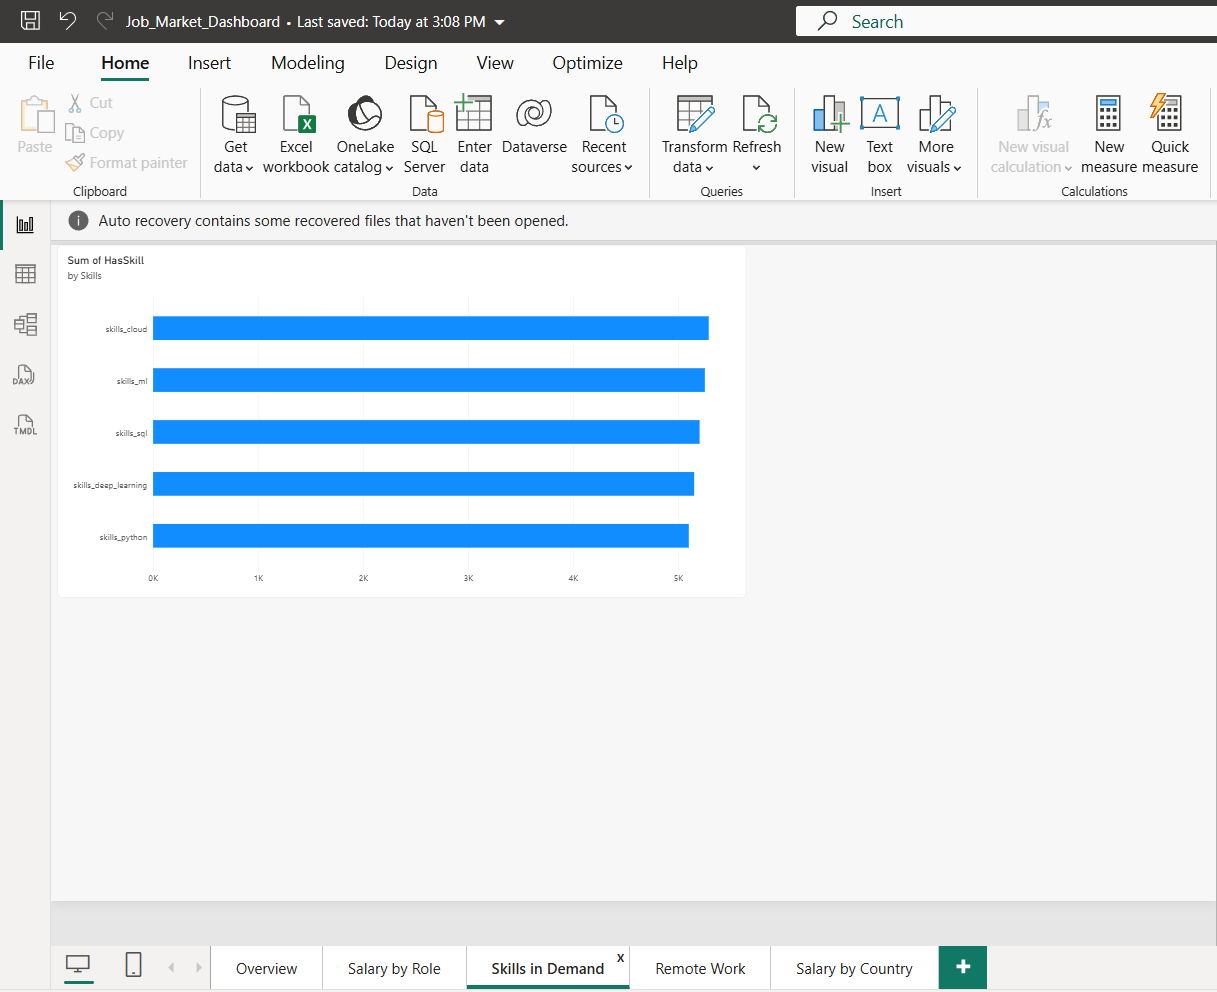

This screenshot's page, from the dashboard's own definition file:
{"tool":"powerbi","page":{"name":"Skills in Demand","canvas":[1920,1080],"ordinal":2},"visuals":[{"type":"clusteredBarChart","fields":{"Category":["Skills.Skills"],"Y":["Sum(Skills.HasSkill)"]},"box":[10.3,0,1134.1,580.4],"z":0}]}

Visuals, with their boxes on the page's 1920x1080 design canvas (x1, y1, x2, y2). These are canvas units, not pixel positions in the 1217x992 screenshot, which may show the page scaled, cropped or inside an application window:
clusteredBarChart - Skills.Skills x Sum(Skills.HasSkill): locate(10, 0, 1144, 580)
